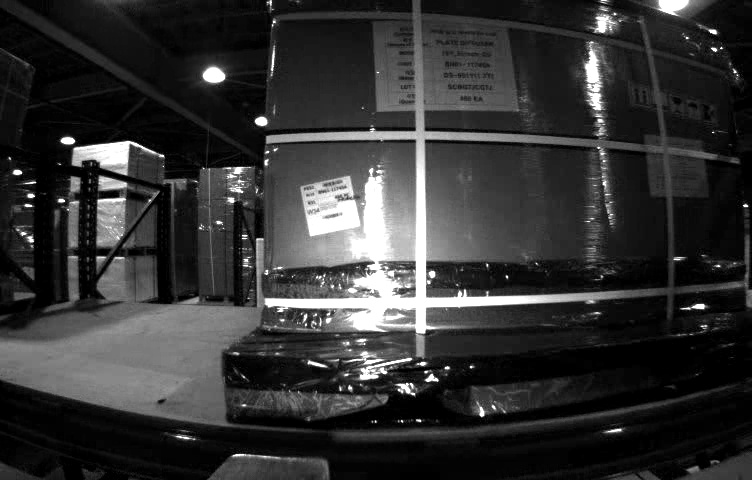True Barcode: (298, 174, 362, 236)
